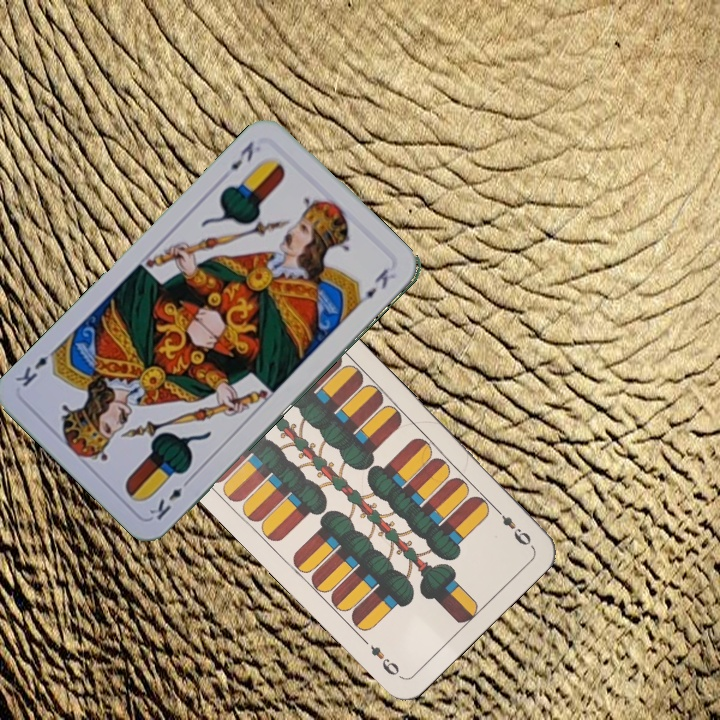E9: (490, 502, 535, 549)
EK: (145, 473, 194, 523), (217, 137, 257, 181)
